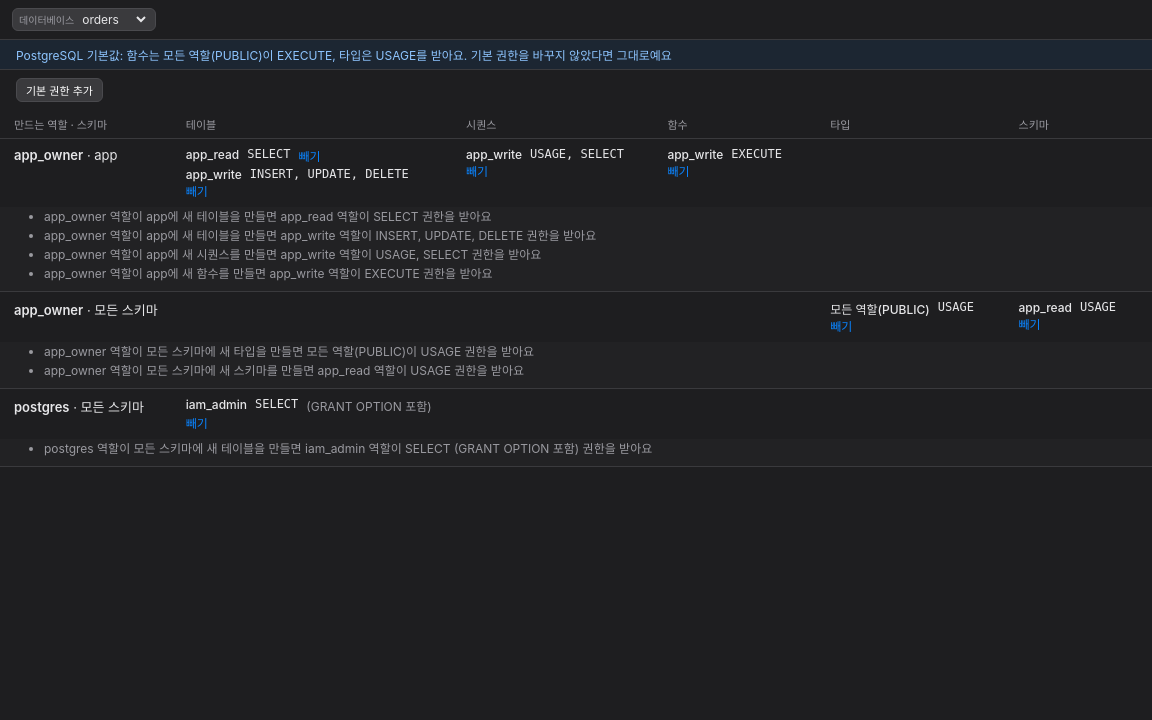
Test: 기본 권한 추가 › queues the default privilege for the chosen schema
Click the button "기본 권한 추가" at (59, 90), box [16,78,103,102]
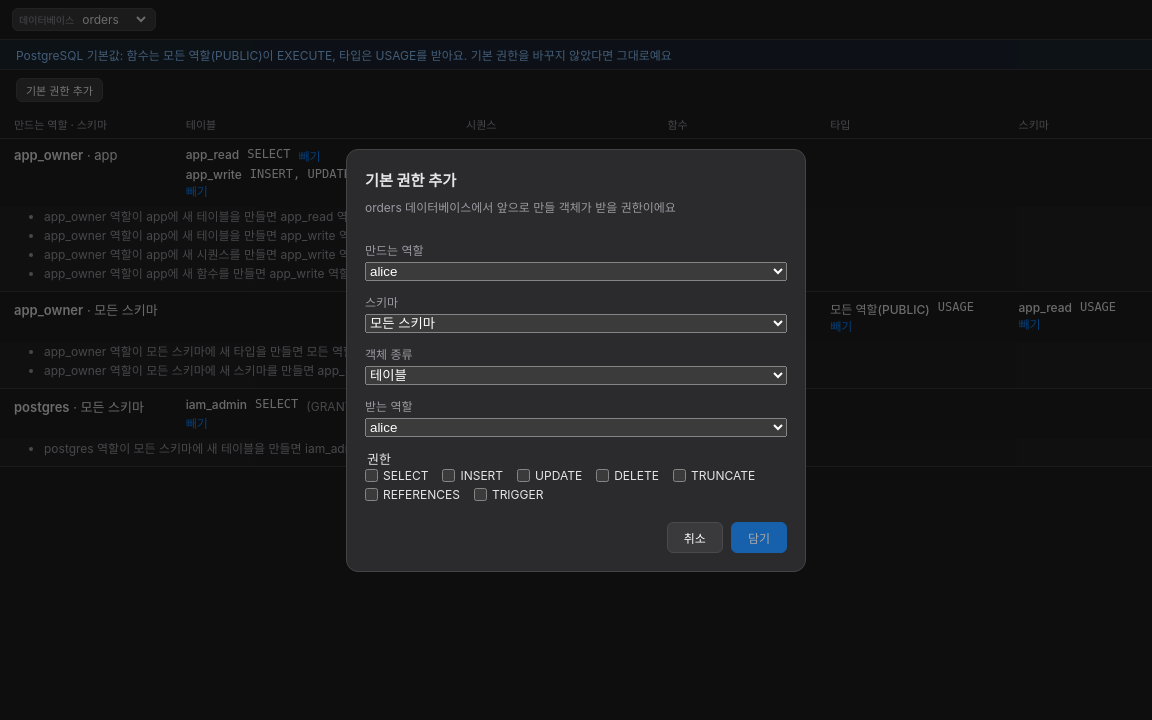
Select "app_owner" in the dropdown labelled "만드는 역할" at (576, 271), box [365,262,787,280]
Select "audit" in the dropdown labelled "스키마" at (576, 323), box [365,314,787,332]
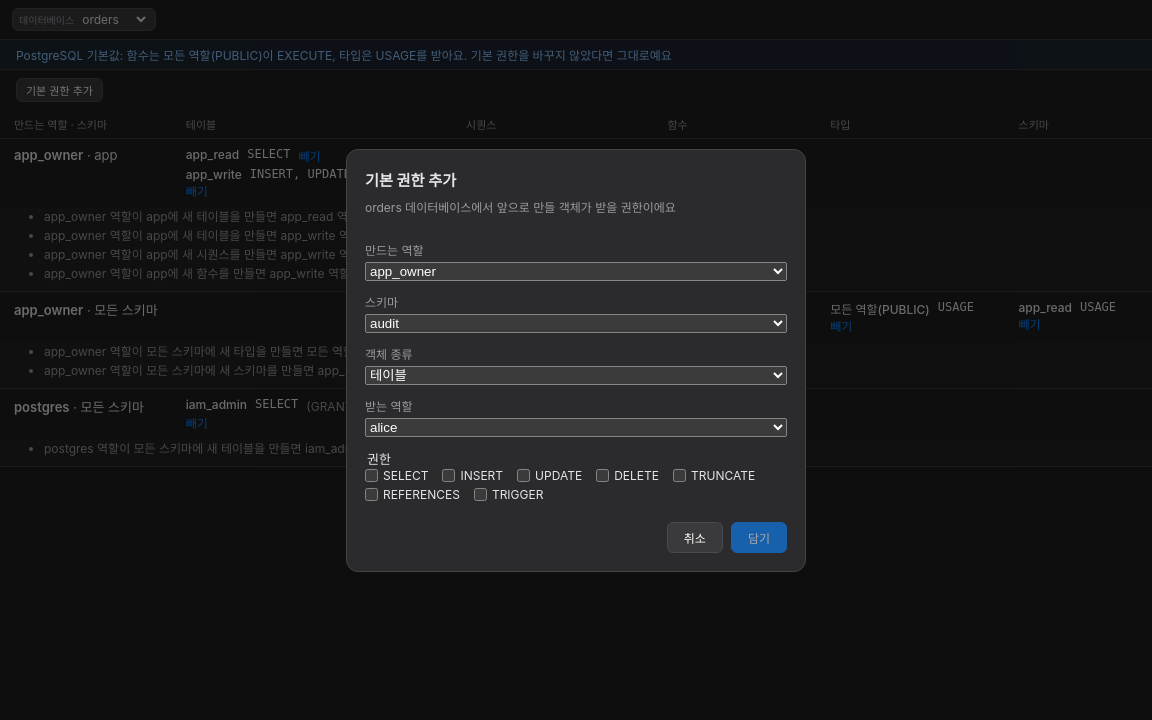
Select "app_read" in the dropdown labelled "받는 역할" at (576, 427), box [365,418,787,436]
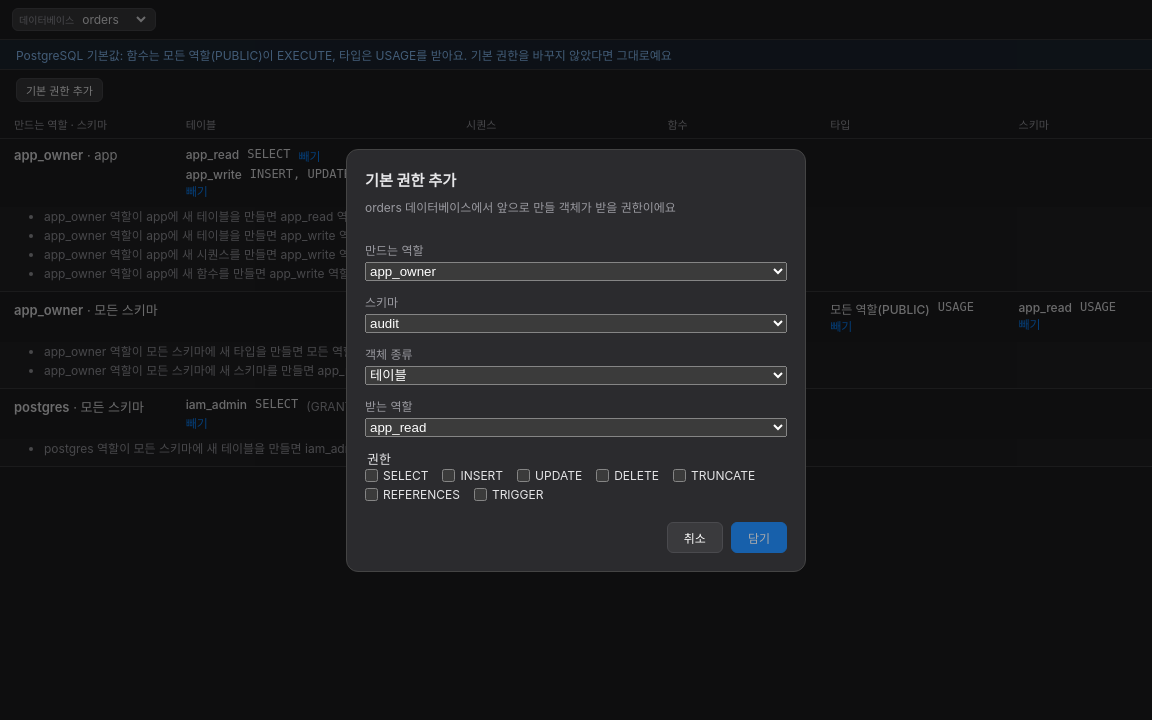
Click the checkbox labelled "SELECT" at (372, 475), box [365,468,378,482]
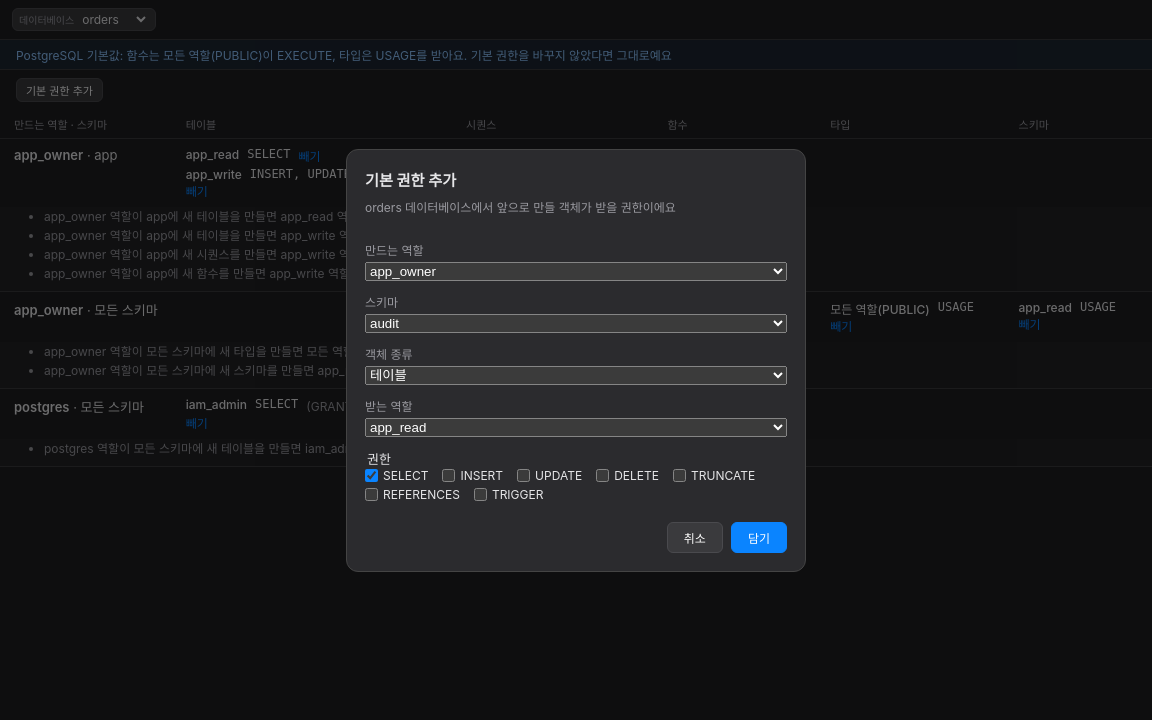
Click the checkbox labelled "TRIGGER" at (480, 494), box [474,488,487,500]
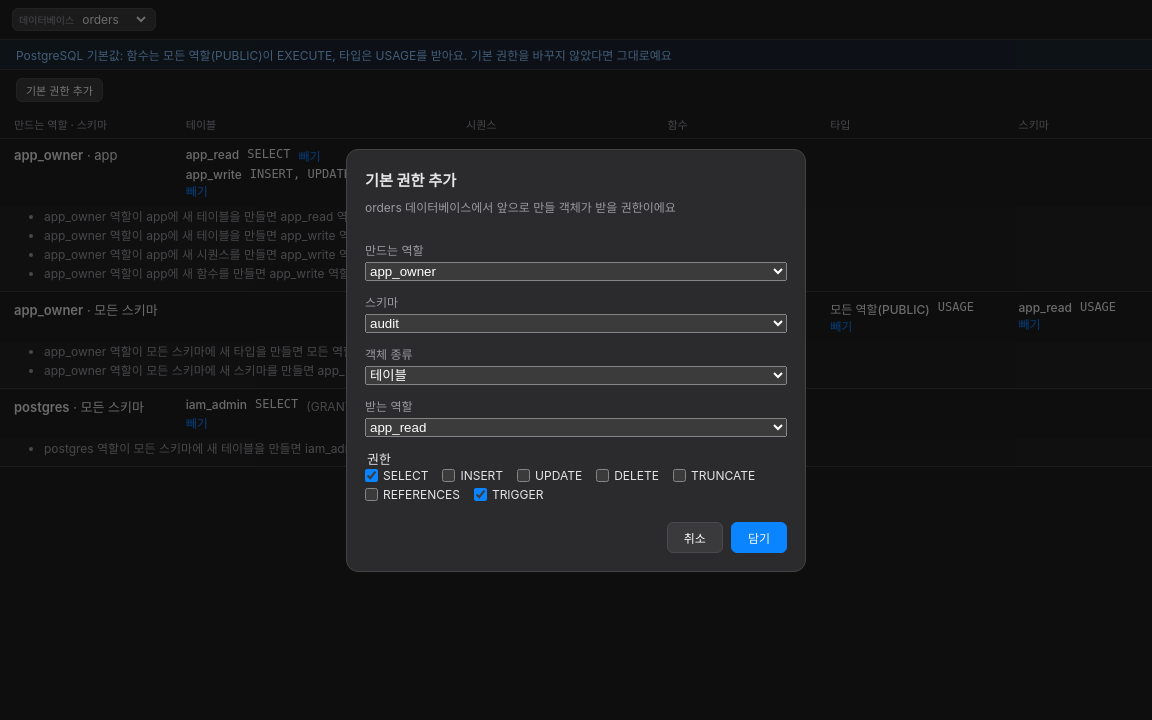
Click the button "담기" at (759, 537), box [731,522,787,552]
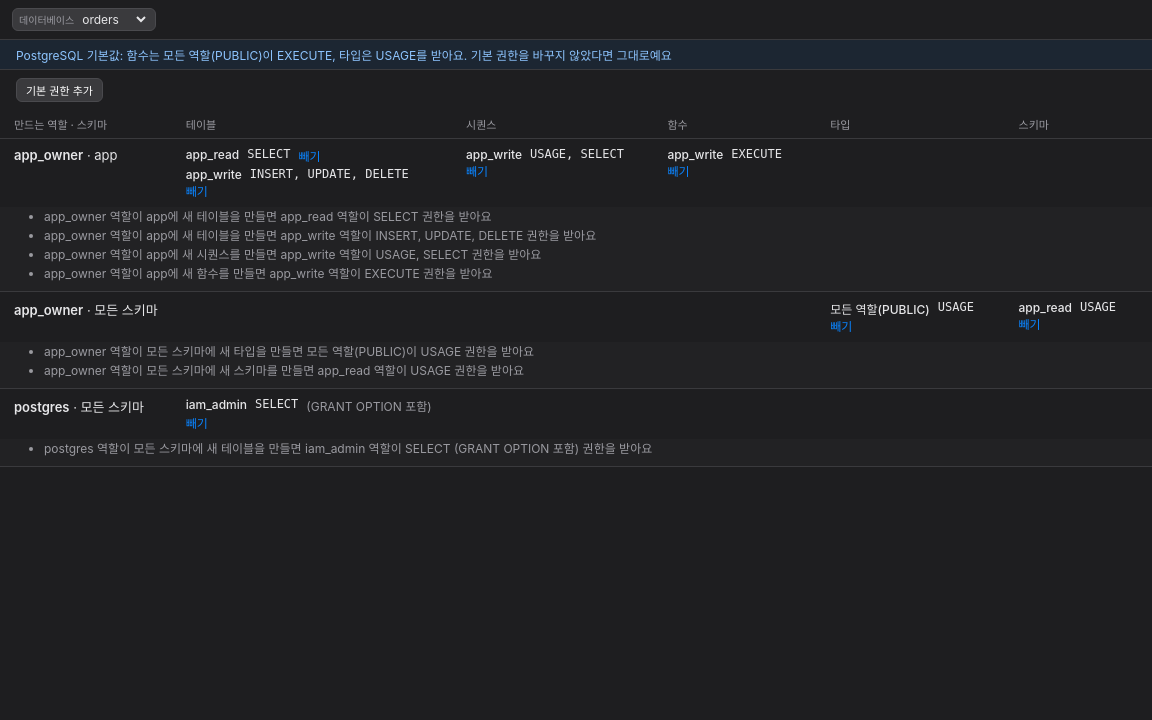
Check: the dialog is gone
